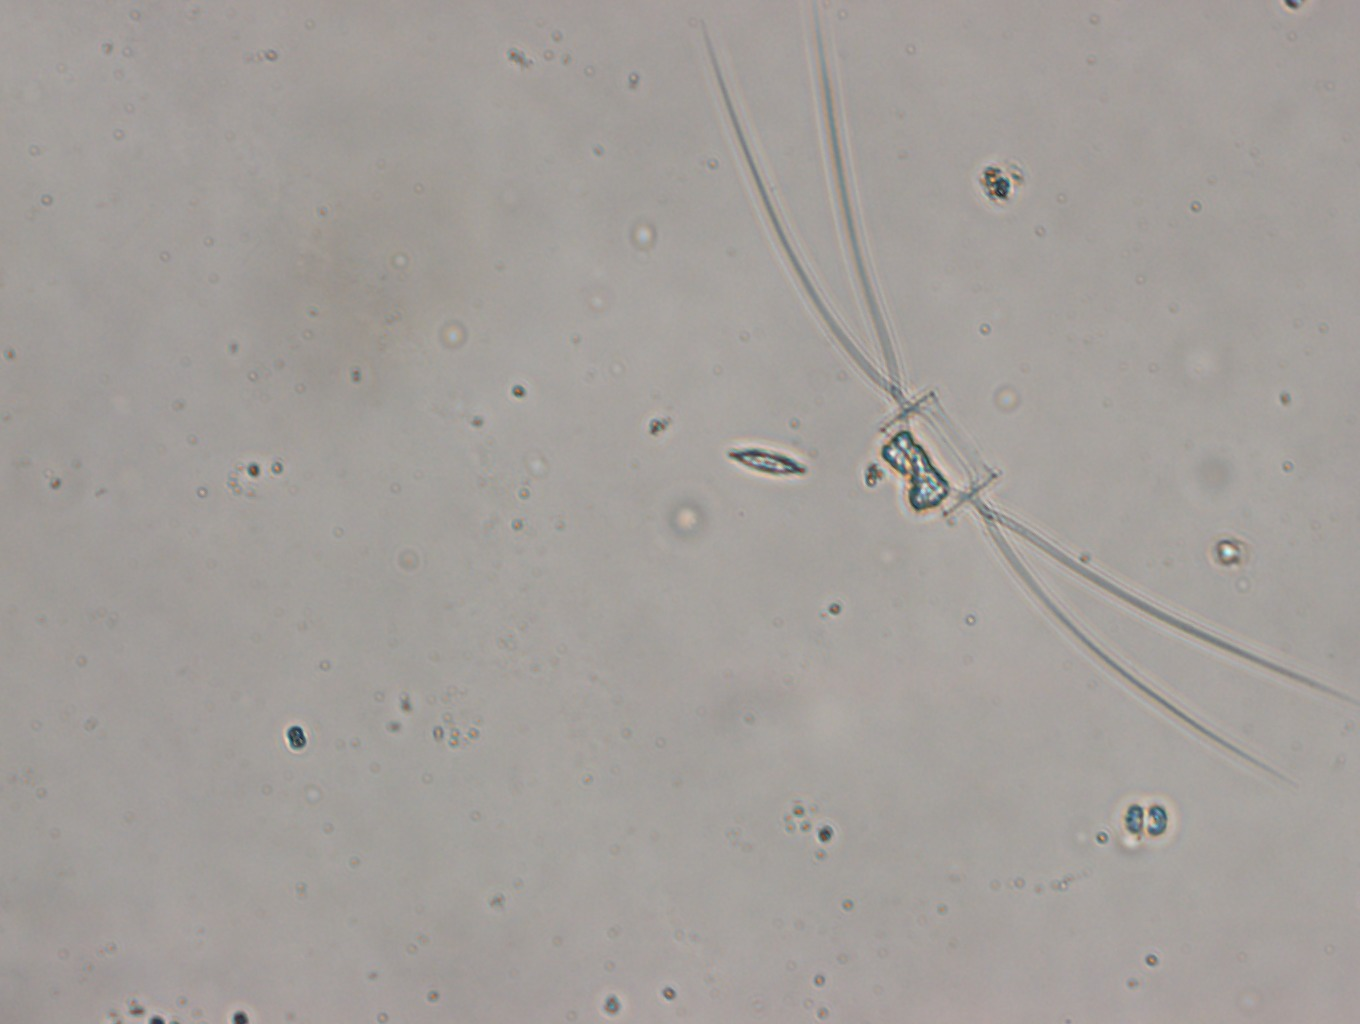chaetoceros: (695, 20, 1345, 793)
